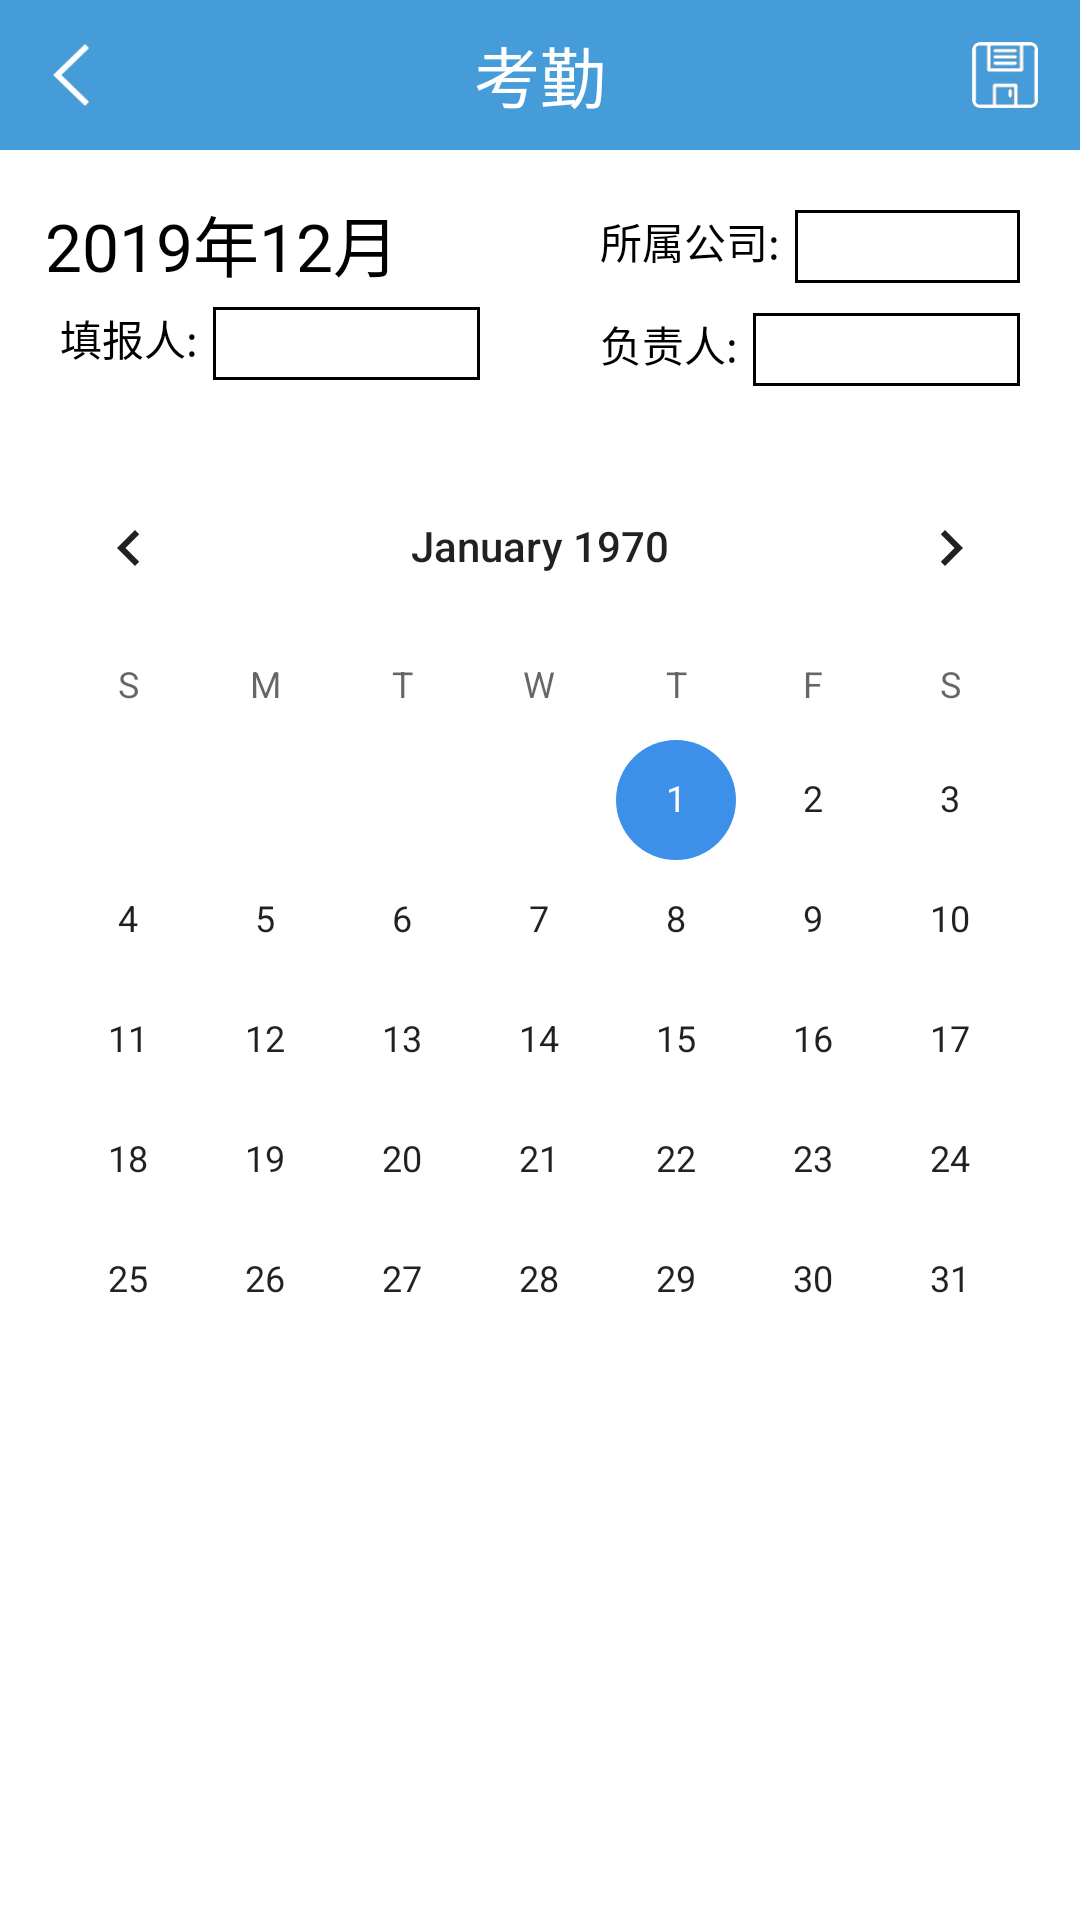

Icons on this 1080 x 1920 Android screen, each with its box as bbox=[x1, y1, x2, y2]:
back: bbox=[53, 44, 89, 106]
save: bbox=[972, 42, 1038, 108]
